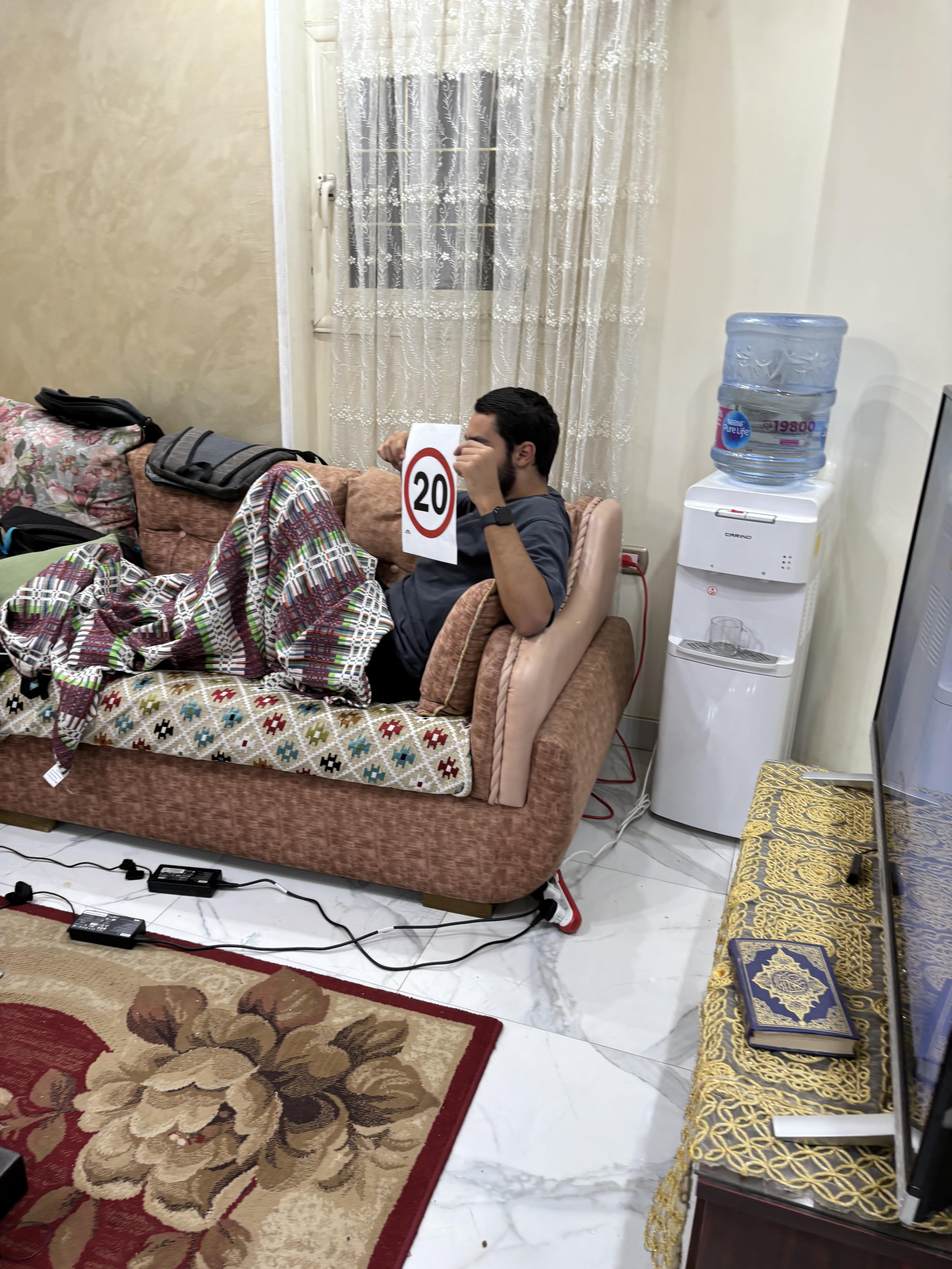20-Speed: (392, 443, 466, 541)
